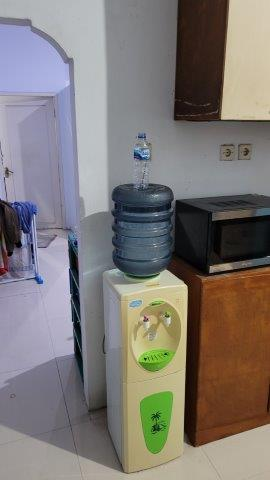botolplastik: (130, 133, 150, 189)
